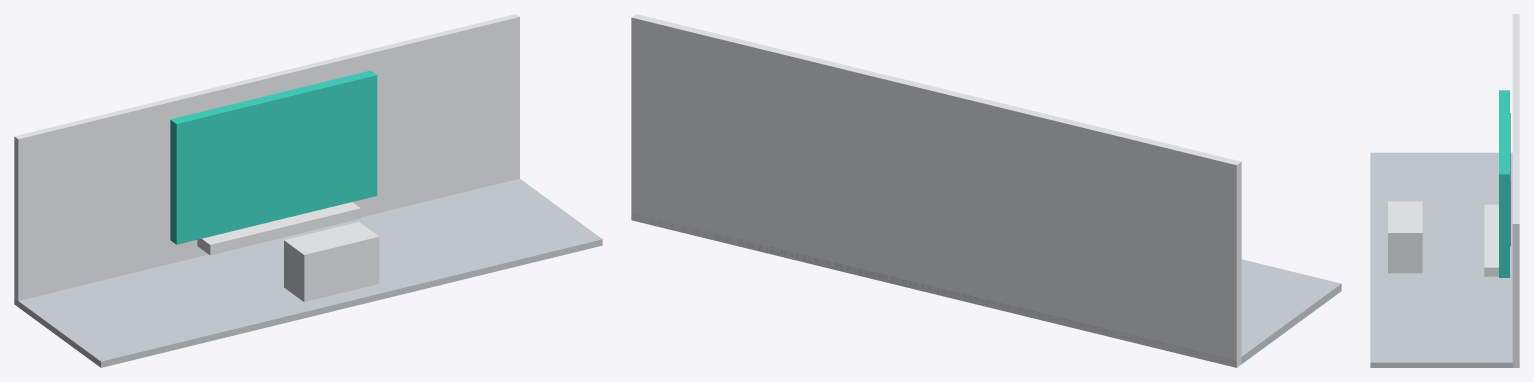
The picture shows the model from 3 angles, left to right: view 1: azimuth 30°, elevation 25°; view 2: azimuth 150°, elevation 25°; view 3: azimuth 270°, elevation 25°; orthographic projection. The views are drawn at different scales.
Parts seen in each view (by area): view 1: Exhibition Booth Concept; view 2: Exhibition Booth Concept; view 3: Exhibition Booth Concept.
Boxes of the visible parts, left/top/right/bottom form: Exhibition Booth Concept: left=14, top=14, right=602, bottom=367; Exhibition Booth Concept: left=631, top=14, right=1341, bottom=367; Exhibition Booth Concept: left=1370, top=14, right=1519, bottom=367.
Size of the model in its own units: 10 by 3.2 by 3.
